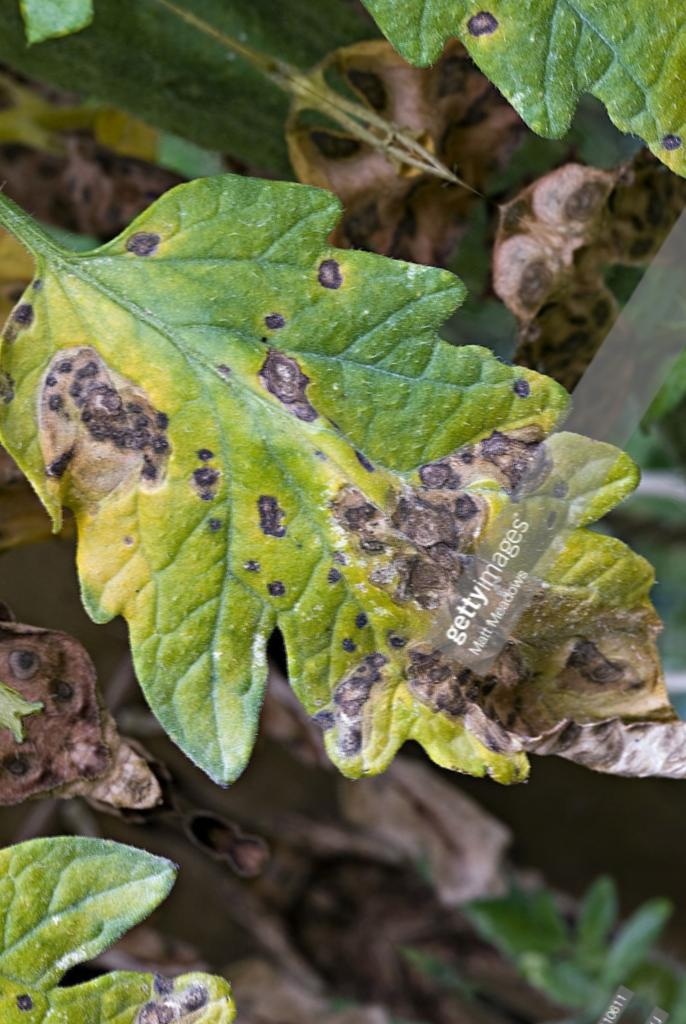Tomato Septoria leaf spot: (0, 75, 686, 1023)
